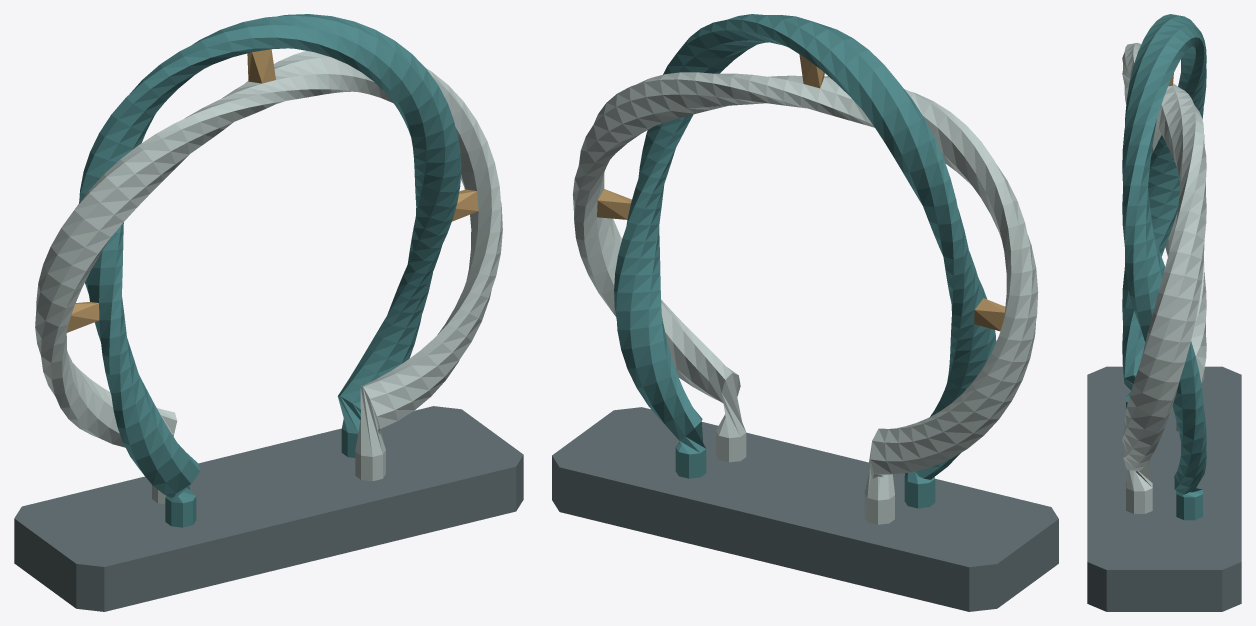
3 renders of one model, left to right at view 1: azimuth 30°, elevation 25°; view 2: azimuth 150°, elevation 25°; view 3: azimuth 270°, elevation 25°, orthographic. The views are drawn at different scales.
Visible parts, largest first — view 1: ContinuousTwinWindingRailsWithThreeSharedPortLinks, WholeGroundThreshold; view 2: ContinuousTwinWindingRailsWithThreeSharedPortLinks, WholeGroundThreshold; view 3: ContinuousTwinWindingRailsWithThreeSharedPortLinks, WholeGroundThreshold.
Part boxes in pixels (<box>): ContinuousTwinWindingRailsWithThreeSharedPortLinks: <box>35,14,502,527</box>; WholeGroundThreshold: <box>14,406,523,611</box>; ContinuousTwinWindingRailsWithThreeSharedPortLinks: <box>572,14,1038,524</box>; WholeGroundThreshold: <box>552,407,1058,611</box>; ContinuousTwinWindingRailsWithThreeSharedPortLinks: <box>1122,14,1206,520</box>; WholeGroundThreshold: <box>1087,366,1241,611</box>.
Size of the model in its own units: 2.55 by 2.72 by 0.8.
